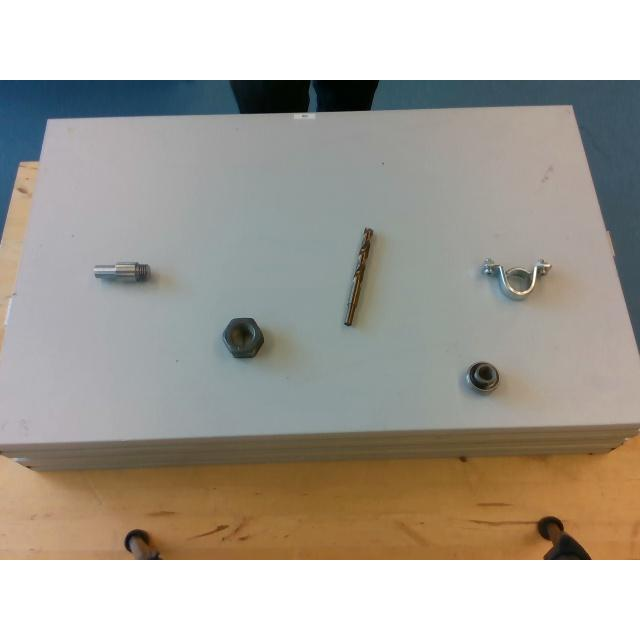Axis2: (93, 260, 151, 284)
Bearing2: (467, 361, 499, 392)
Drill: (344, 227, 372, 325)
Housing: (482, 258, 550, 298)
M30: (223, 317, 264, 357)
